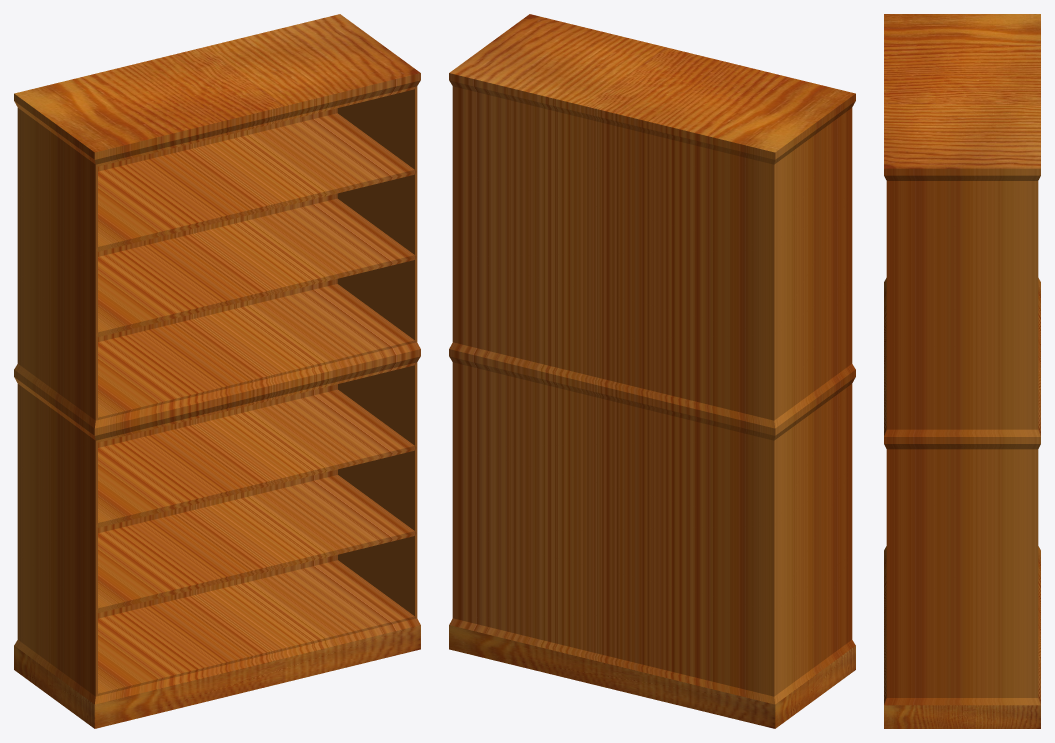
The model's file is bookshelf_6t.fbx.
The picture shows the model from 3 angles, left to right: view 1: azimuth 30°, elevation 25°; view 2: azimuth 150°, elevation 25°; view 3: azimuth 270°, elevation 25°; orthographic projection. The views are drawn at different scales.
Parts seen in each view (by area): view 1: bookshelf_6t; view 2: bookshelf_6t; view 3: bookshelf_6t.
Part boxes in pixels (left/top/right/bottom): bookshelf_6t: left=14, top=14, right=420, bottom=728; bookshelf_6t: left=449, top=14, right=855, bottom=728; bookshelf_6t: left=884, top=14, right=1040, bottom=728.
Size of the model in its own units: 140 by 236 by 60.
